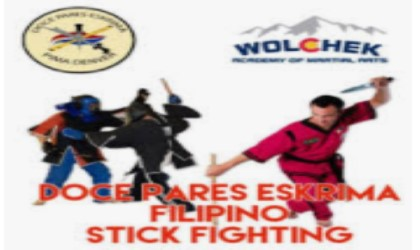baston_v: (208, 149, 219, 160), (158, 74, 167, 85)
